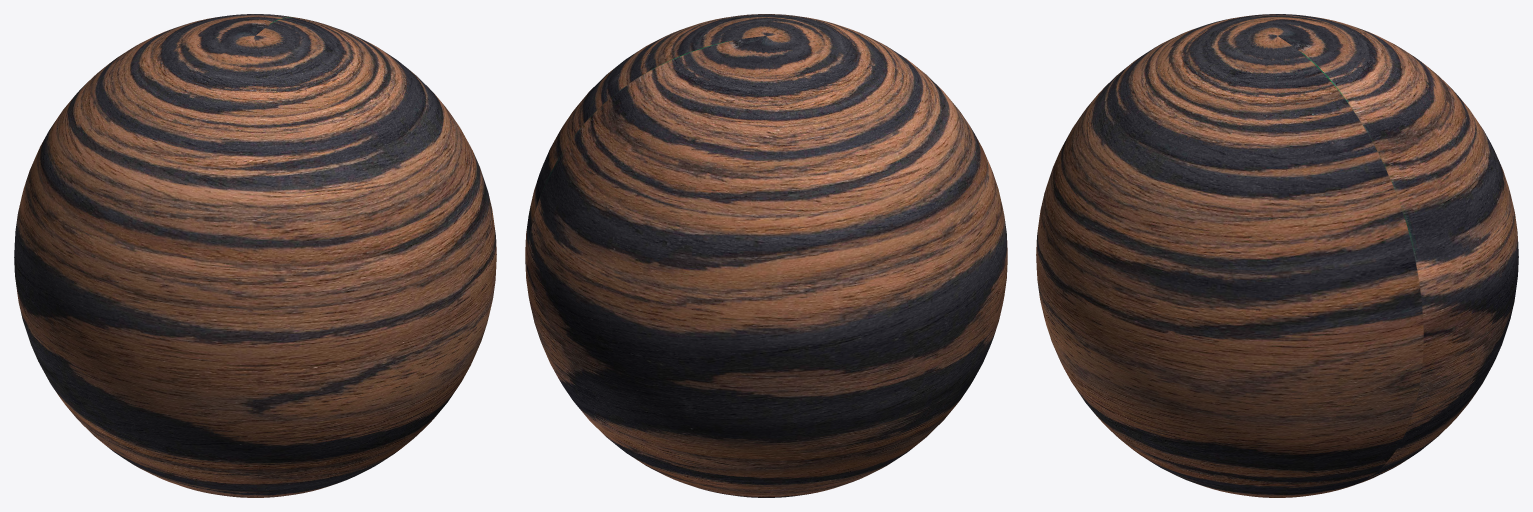
Rendered from Decor.obj.
3 views of the same model, side by side, from view 1: azimuth 30°, elevation 25°; view 2: azimuth 150°, elevation 25°; view 3: azimuth 270°, elevation 25° (orthographic).
Parts seen in each view (by area): view 1: Sphere001; view 2: Sphere001; view 3: Sphere001.
Boxes of the visible parts, x1=… form: Sphere001: x1=14, y1=14, x2=496, y2=497; Sphere001: x1=525, y1=14, x2=1007, y2=497; Sphere001: x1=1036, y1=14, x2=1518, y2=497.
Bounding box in the file's own units: 2734 × 2751 × 2734.
